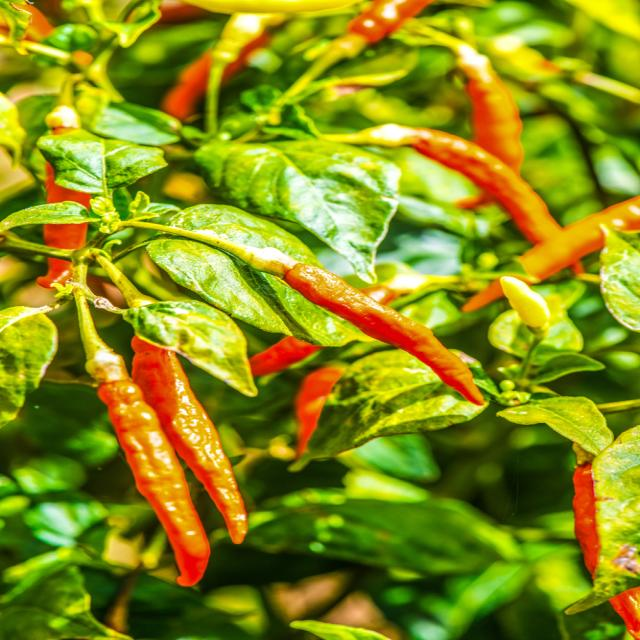Ripe: (283, 264, 484, 406), (326, 124, 560, 241), (131, 336, 247, 544), (97, 379, 210, 586), (519, 196, 639, 279), (455, 44, 523, 173), (249, 337, 320, 376)
